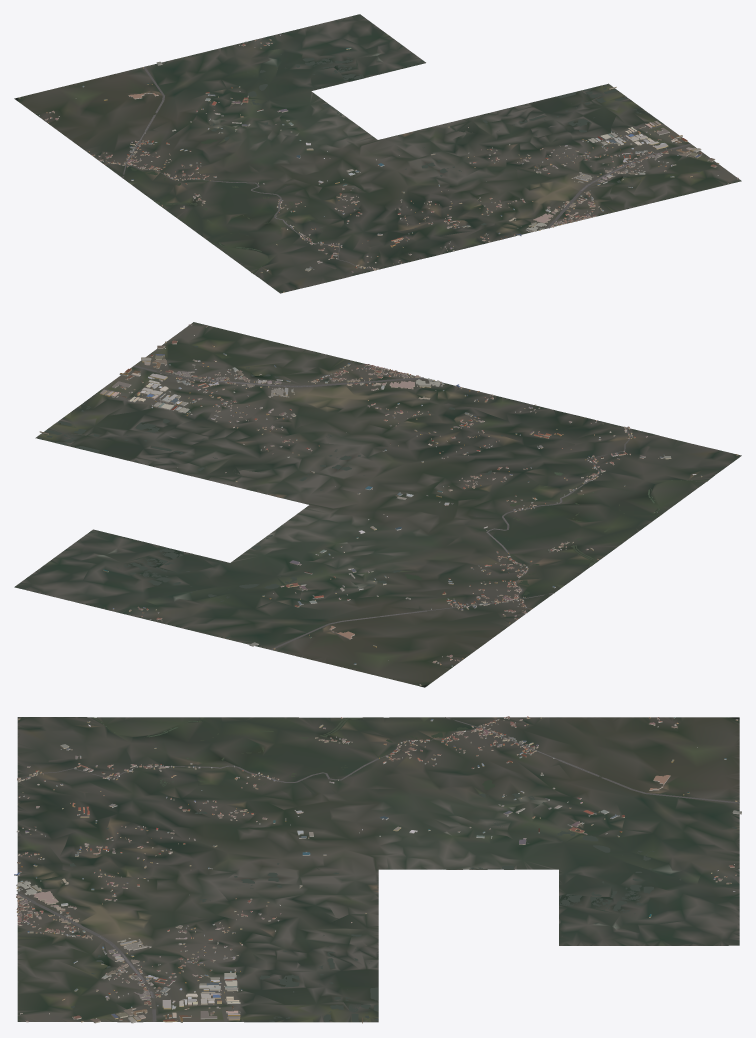
The picture shows the model from 3 angles, top to bottom: view 1: azimuth 30°, elevation 25°; view 2: azimuth 150°, elevation 25°; view 3: azimuth 270°, elevation 25°; orthographic projection. The views are drawn at different scales.
Visible parts, largest first — view 1: ground, buildings, water, roads; view 2: ground, buildings, water, roads; view 3: ground, buildings, water, roads.
Boxes of the visible parts, x1,y1,x2,y2 form: ground: [14, 14, 741, 293]; buildings: [19, 34, 738, 292]; water: [15, 49, 700, 269]; roads: [104, 66, 691, 269]; ground: [14, 322, 741, 687]; buildings: [39, 324, 738, 685]; water: [37, 345, 696, 687]; roads: [134, 365, 631, 650]; ground: [17, 717, 739, 1022]; buildings: [14, 716, 741, 1023]; water: [70, 717, 739, 1022]; roads: [16, 717, 739, 1021].
Size of the model in its own units: 5635 by 27.95 by 5653.
